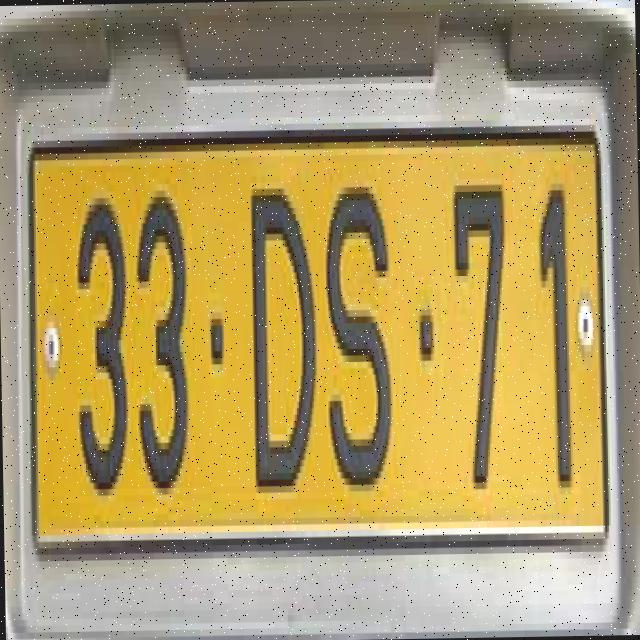Autre: (27, 146, 602, 542)
